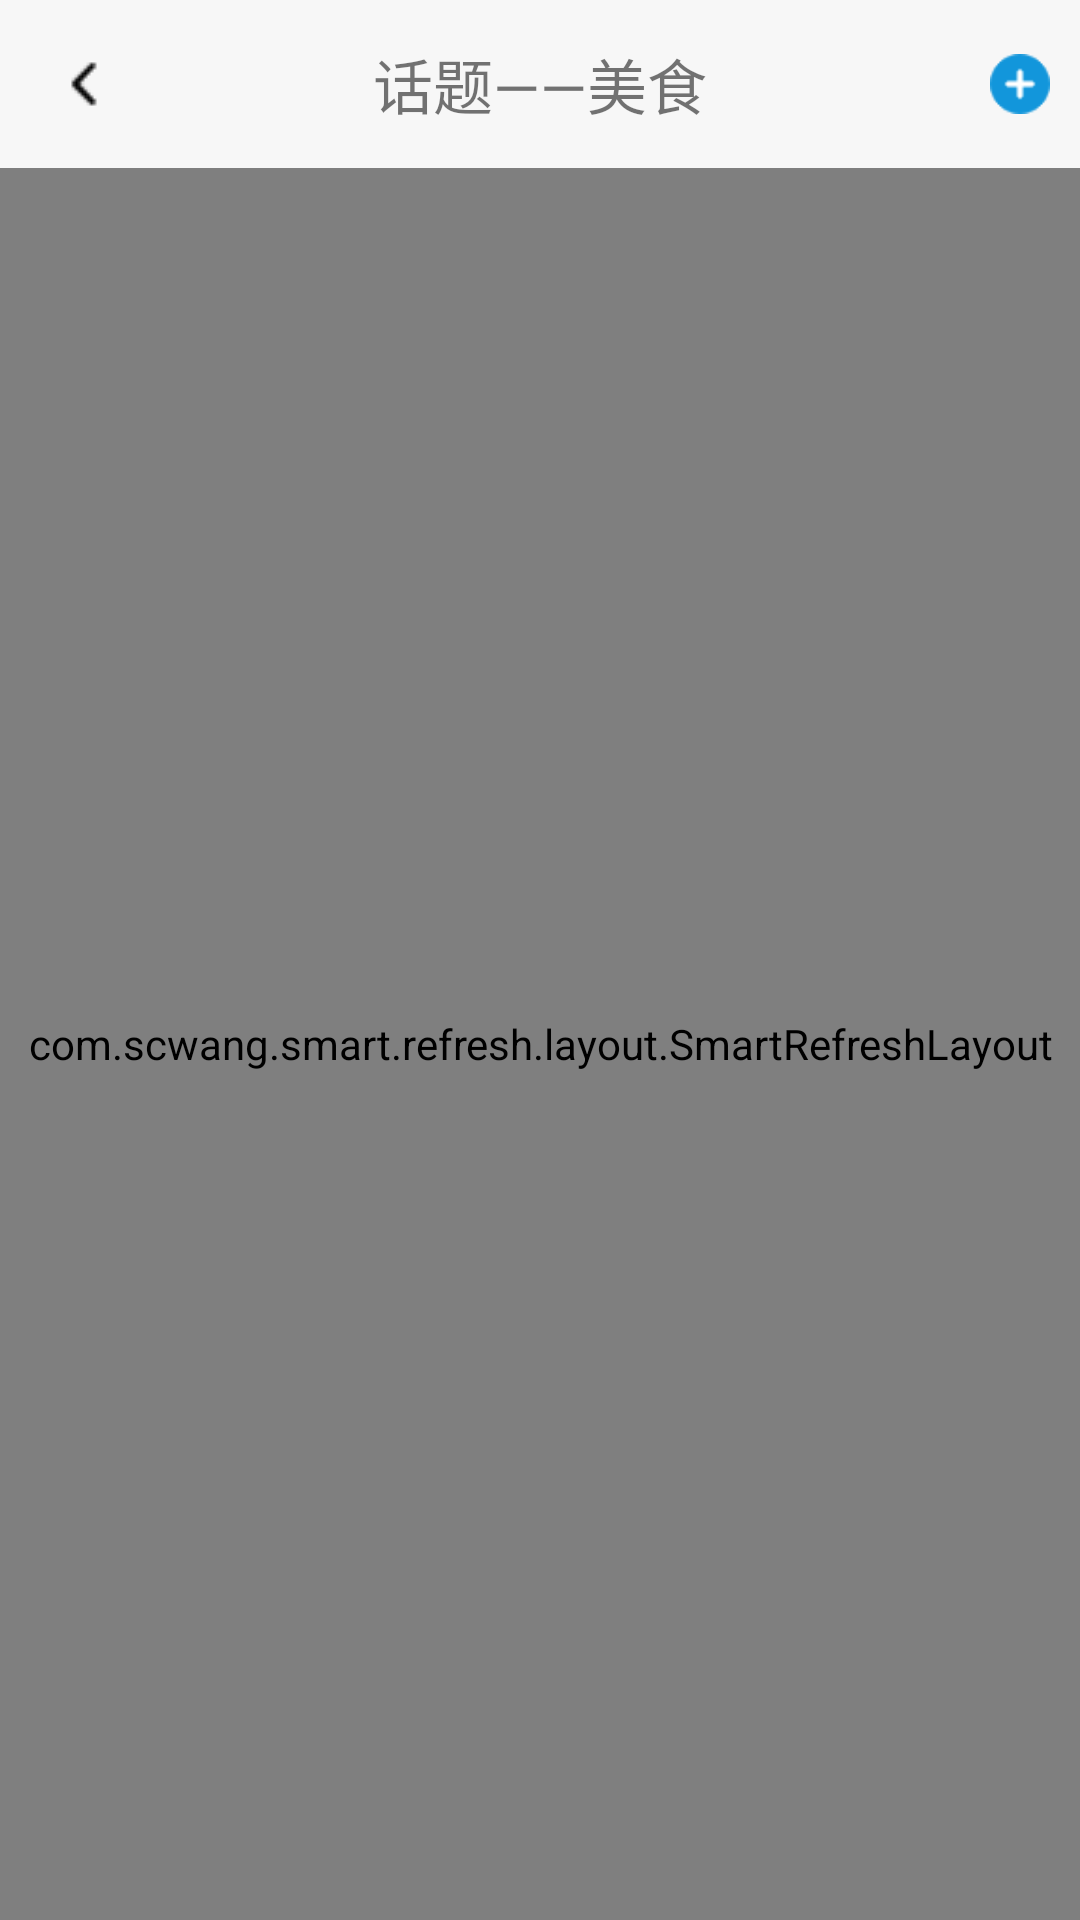

Screen size 1080x1920. Icon name, then its box in pixels as bbox(x1, y1, x2, y2):
add: bbox(990, 54, 1050, 114)
